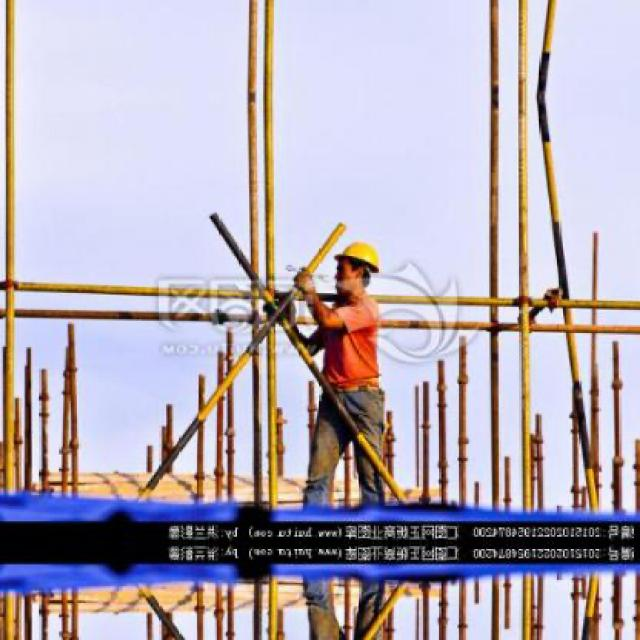helmet: (336, 235, 384, 302)
